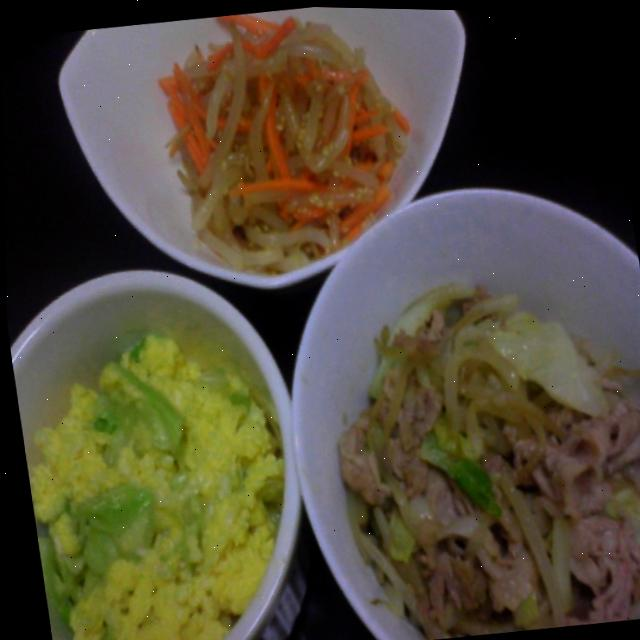蔬菜料理: (296, 202, 640, 640)
